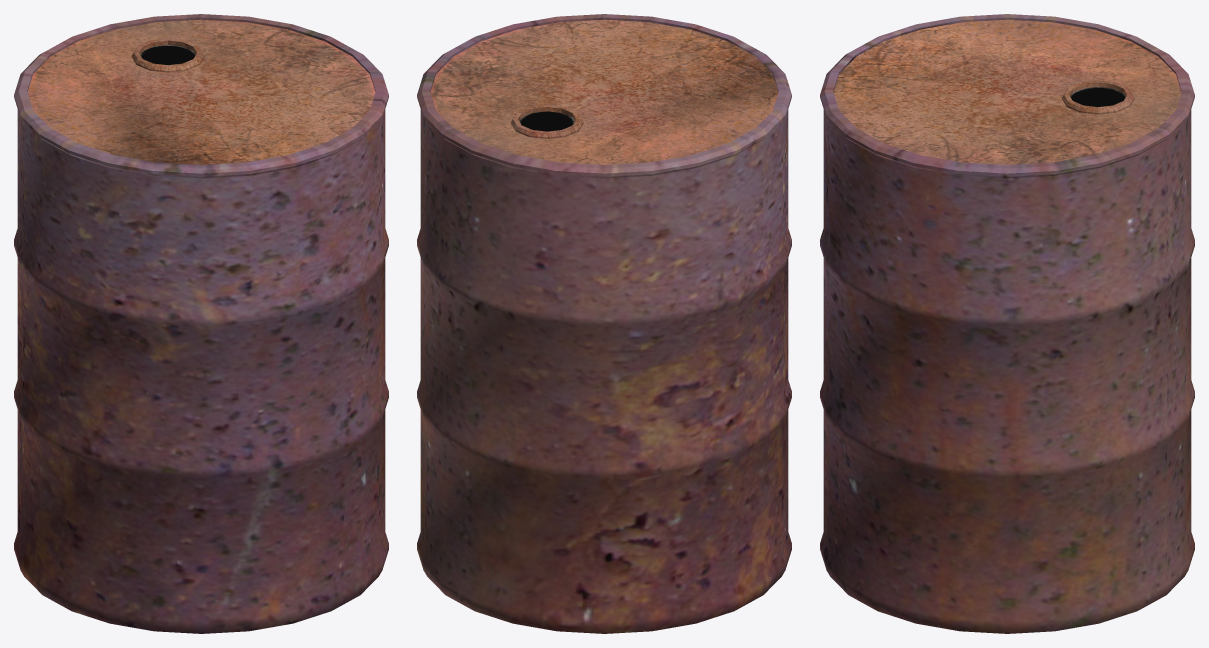
The model's file is barrel.fbx.
3 renders of one model, left to right at view 1: azimuth 30°, elevation 25°; view 2: azimuth 150°, elevation 25°; view 3: azimuth 270°, elevation 25°, orthographic.
Parts seen in each view (by area): view 1: barrel; view 2: barrel; view 3: barrel.
Boxes of the visible parts, x1,y1,x2,y2 form: barrel: (14,14,388,633); barrel: (417,14,791,633); barrel: (820,14,1194,633).
Bounding box in the file's own units: 0.4106 × 0.5651 × 0.4106.
